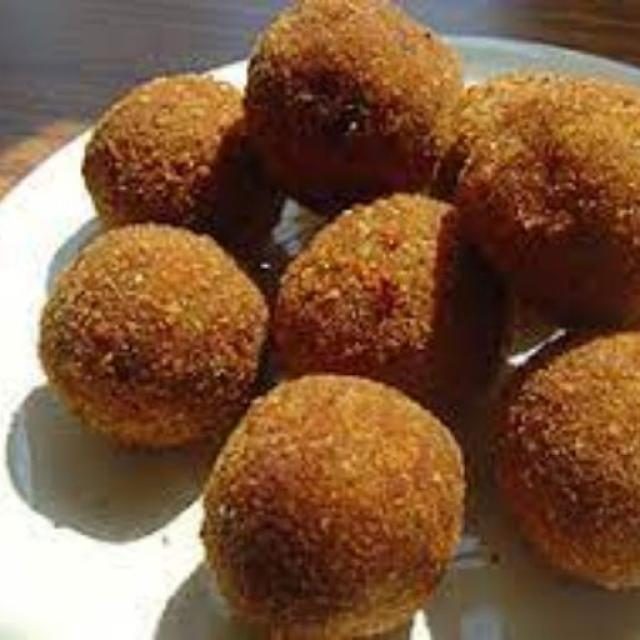Cutlet: (214, 382, 478, 632), (262, 182, 511, 390), (24, 231, 254, 439), (436, 69, 640, 301), (244, 0, 458, 181)
